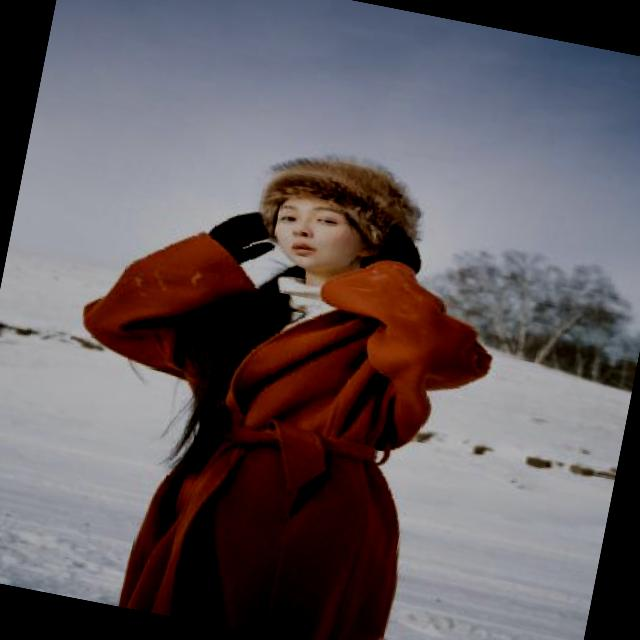Person: (30, 85, 519, 640)
